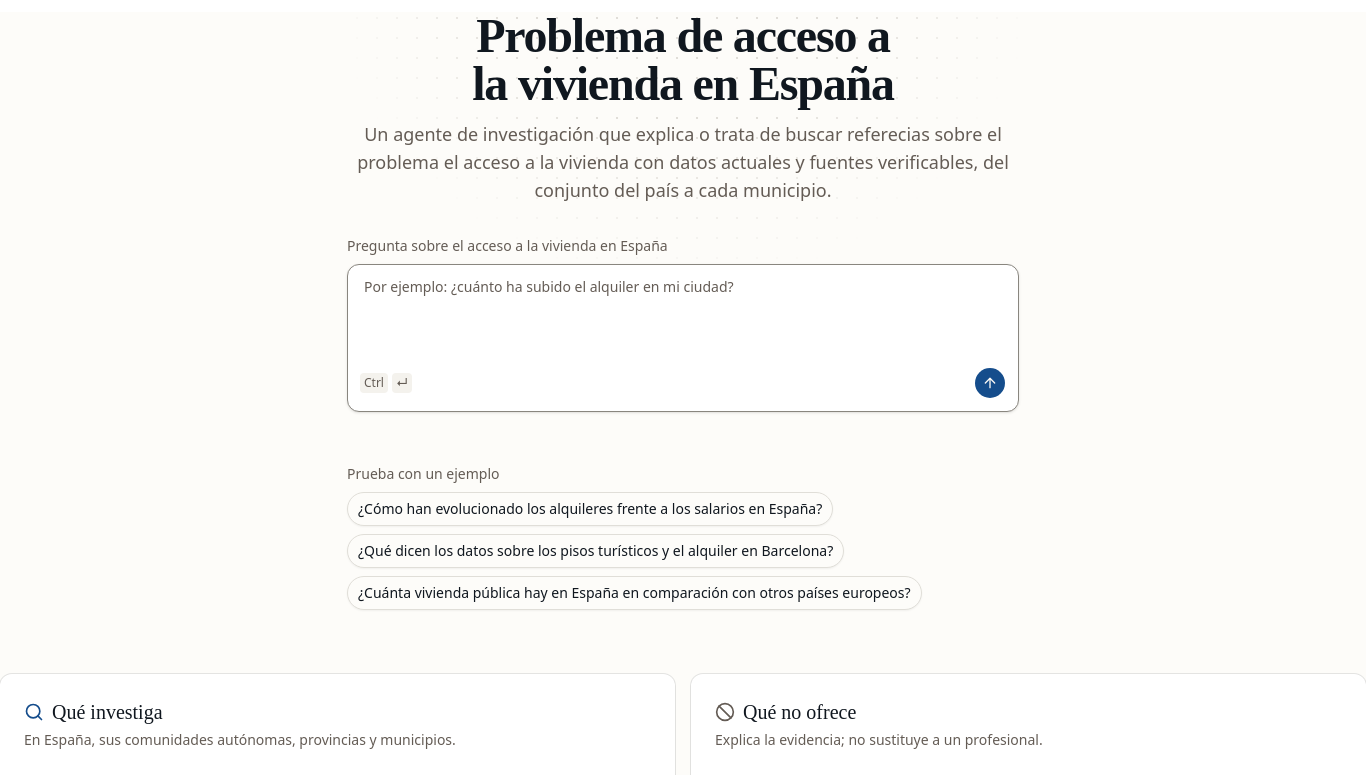
Test: HomeView › fills and focuses the field from an example without sending it
Step 1. Submit the form, box [347,236,1019,440]
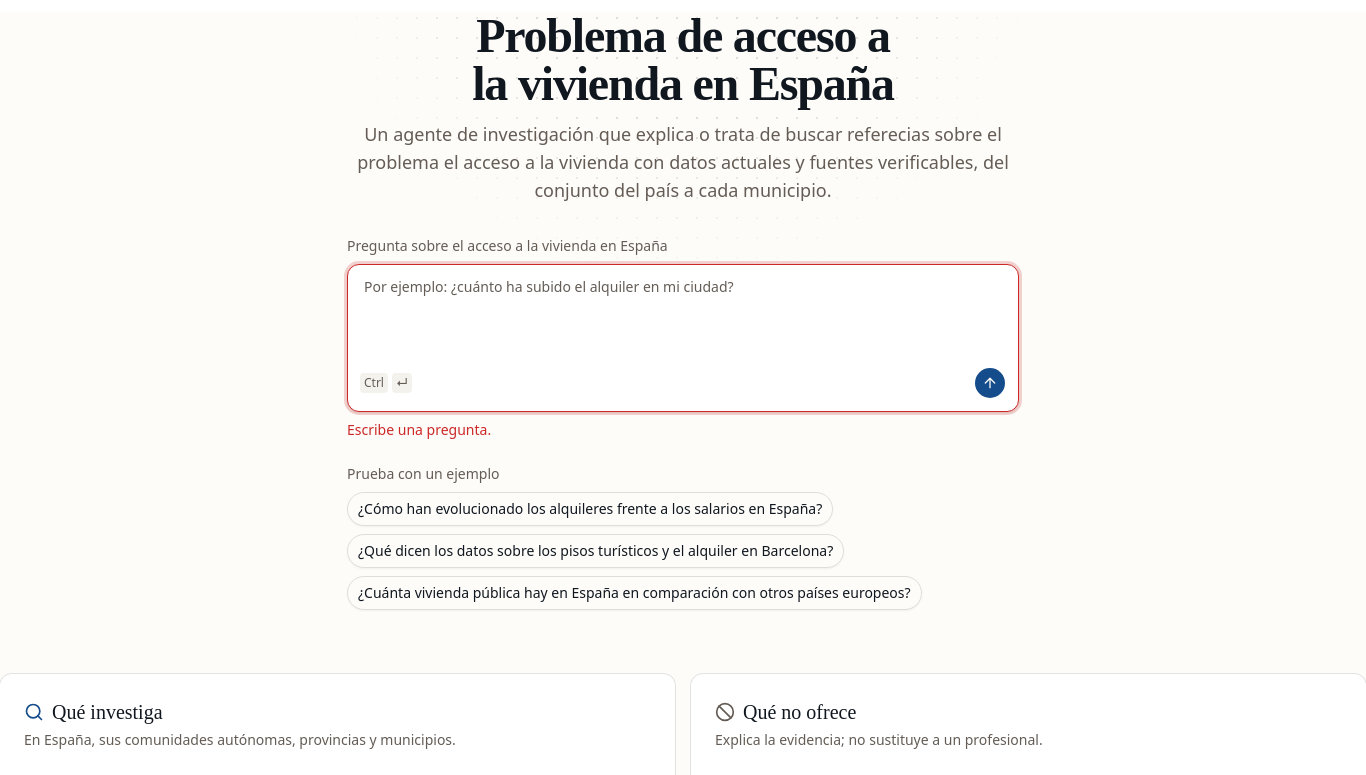
Check: the text with id "research-status" reads "Escribe una pregunta.", box [347,420,491,439]
Step 2. Click the 2nd button → coordinates (590, 509), box [347,492,833,526]
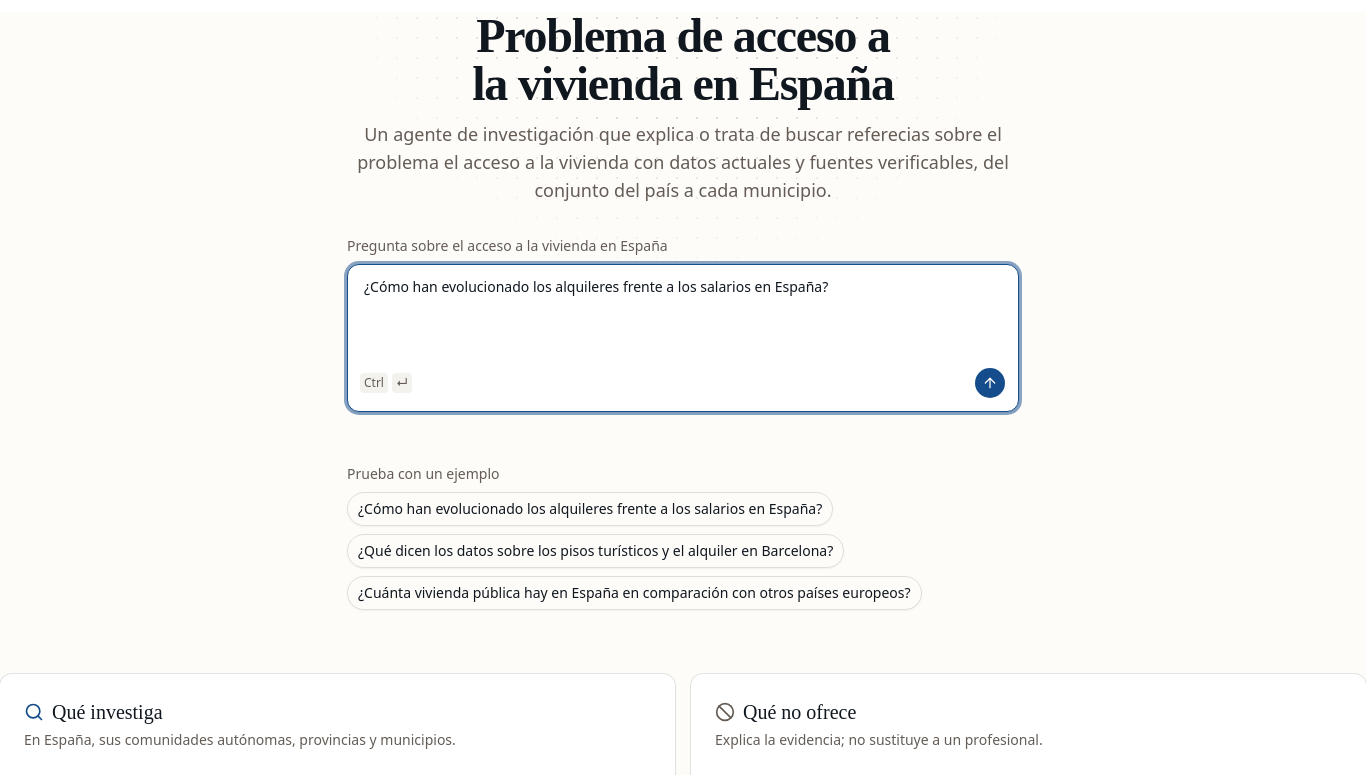
Check: the text box labelled "Pregunta sobre el acceso a la vivienda en España" holds "¿Cómo han evolucionado los alquileres frente a los salarios en España?", box [348,265,1018,361]
